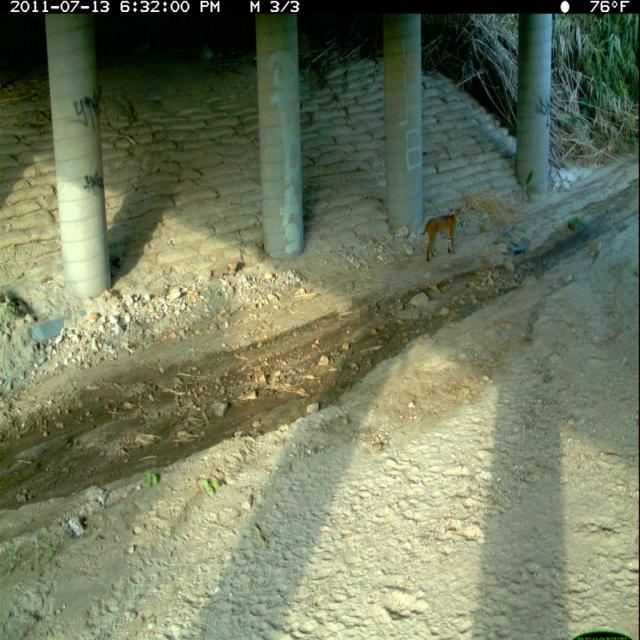bobcat: (421, 201, 469, 269)
